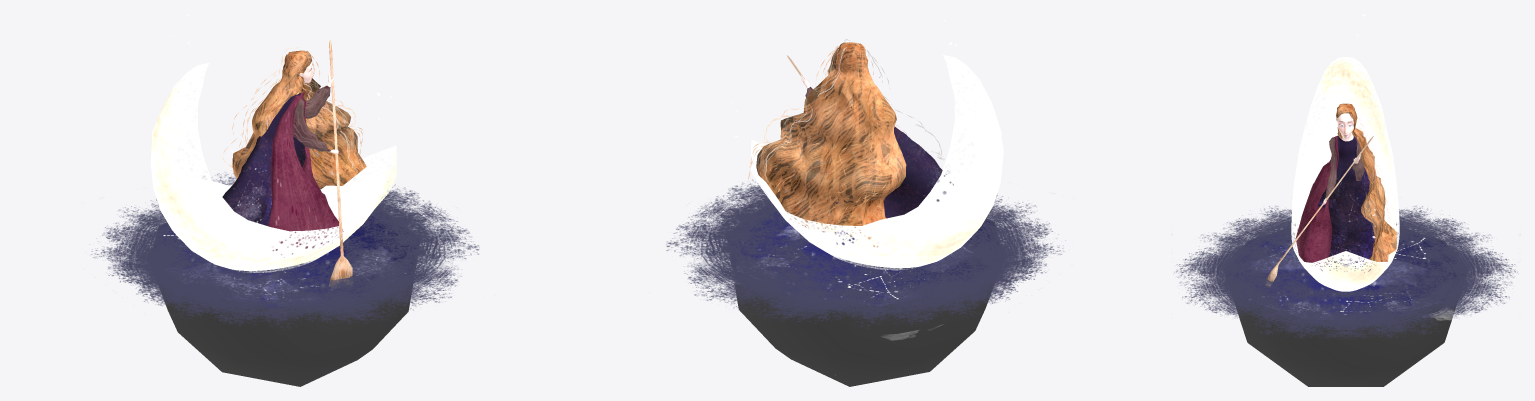
The model's file is i_see_the_light.glb.
3 renders of one model, left to right at view 1: azimuth 30°, elevation 25°; view 2: azimuth 150°, elevation 25°; view 3: azimuth 270°, elevation 25°, orthographic. The views are drawn at different scales.
Visible parts, largest first — view 1: Sea_3, Background_5, Moon_1, Rapunzel_2, HairAlpha_18; view 2: Sea_3, Rapunzel_2, Background_5, Moon_1, HairAlpha_18; view 3: Sea_3, Background_5, Moon_1, Rapunzel_2.
Part boxes in pixels (x1,y1,x2,y2): Sea_3: (89,173,479,330); Background_5: (155,212,417,386); Moon_1: (150,63,396,272); Rapunzel_2: (222,40,366,287); HairAlpha_18: (222,47,362,167); Sea_3: (666,179,1065,328); Rapunzel_2: (756,42,953,247); Background_5: (729,208,997,386); Moon_1: (751,55,1003,270); HairAlpha_18: (748,42,887,216); Sea_3: (1174,205,1517,339); Background_5: (1227,234,1464,386); Moon_1: (1291,57,1399,291); Rapunzel_2: (1266,103,1396,285).
Size of the model in its own units: 14.09 by 14.68 by 14.09.
19 materials, 16 textured.
